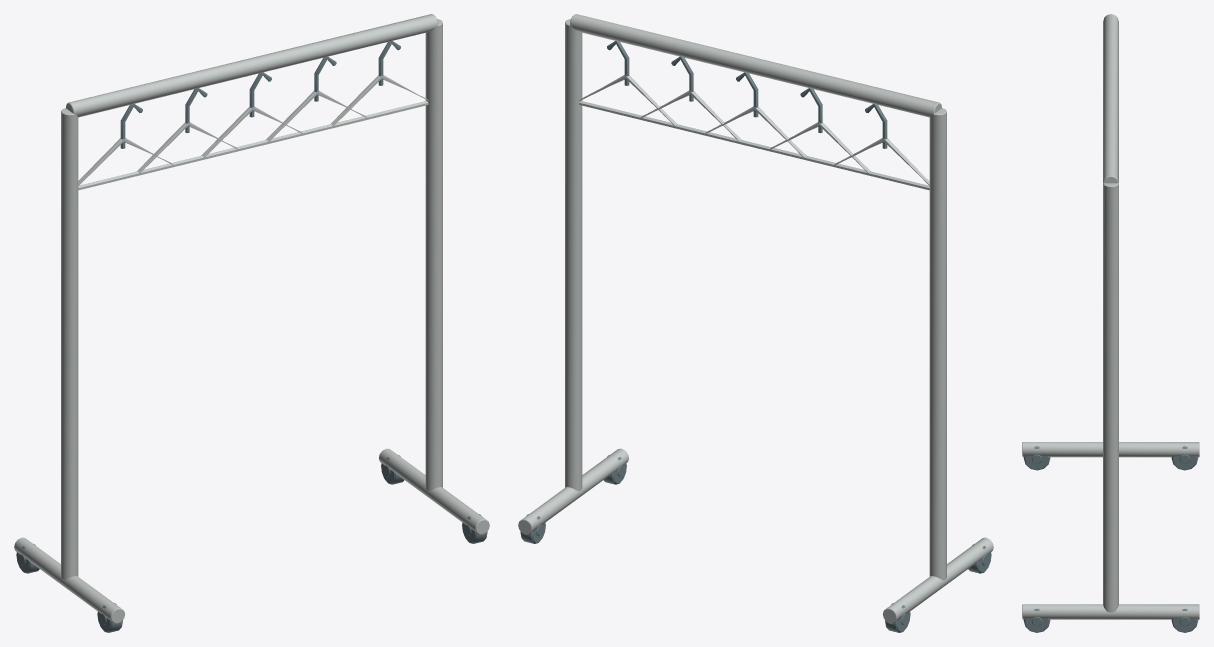
The model's file is clothing-rack.glb.
3 renders of one model, left to right at view 1: azimuth 30°, elevation 25°; view 2: azimuth 150°, elevation 25°; view 3: azimuth 270°, elevation 25°, orthographic. The views are drawn at different scales.
Visible parts, largest first — view 1: rack_post, rack_post.001, hanging_rail, rack_foot.001, rack_foot, triangular_hanger, triangular_hanger.002, triangular_hanger.004, triangular_hanger.001, triangular_hanger.003; view 2: rack_post, rack_post.001, hanging_rail, rack_foot.001, rack_foot, triangular_hanger, triangular_hanger.002, triangular_hanger.003, triangular_hanger.001, triangular_hanger.004; view 3: rack_post.001, hanging_rail, rack_foot.001, rack_foot, rack_post, rack_caster_wheel, rack_caster_wheel.001, rack_caster_wheel.002, rack_caster_wheel.003.
Boxes of the visible parts, bbox=[...] form: rack_post: bbox=[61, 108, 78, 580]; rack_post.001: bbox=[425, 19, 442, 491]; hanging_rail: bbox=[66, 14, 437, 117]; rack_foot.001: bbox=[379, 448, 489, 534]; rack_foot: bbox=[14, 537, 124, 623]; triangular_hanger: bbox=[78, 138, 174, 190]; triangular_hanger.002: bbox=[201, 106, 303, 159]; triangular_hanger.004: bbox=[330, 75, 428, 125]; triangular_hanger.001: bbox=[137, 122, 239, 173]; triangular_hanger.003: bbox=[266, 91, 368, 141]; rack_post: bbox=[929, 108, 946, 580]; rack_post.001: bbox=[565, 19, 582, 491]; hanging_rail: bbox=[570, 14, 941, 117]; rack_foot.001: bbox=[518, 448, 628, 534]; rack_foot: bbox=[883, 537, 993, 623]; triangular_hanger: bbox=[833, 138, 929, 190]; triangular_hanger.002: bbox=[704, 106, 806, 159]; triangular_hanger.003: bbox=[639, 91, 741, 143]; triangular_hanger.001: bbox=[768, 122, 870, 175]; triangular_hanger.004: bbox=[579, 75, 677, 127]; rack_post.001: bbox=[1103, 183, 1118, 612]; hanging_rail: bbox=[1103, 14, 1118, 183]; rack_foot.001: bbox=[1022, 604, 1199, 619]; rack_foot: bbox=[1022, 442, 1199, 457]; rack_post: bbox=[1103, 21, 1118, 182]; rack_caster_wheel: bbox=[1171, 446, 1198, 470]; rack_caster_wheel.001: bbox=[1023, 446, 1050, 470]; rack_caster_wheel.002: bbox=[1171, 608, 1198, 632]; rack_caster_wheel.003: bbox=[1023, 608, 1050, 632].
Bounding box in the file's own units: 1.35 × 1.7 × 0.6.
